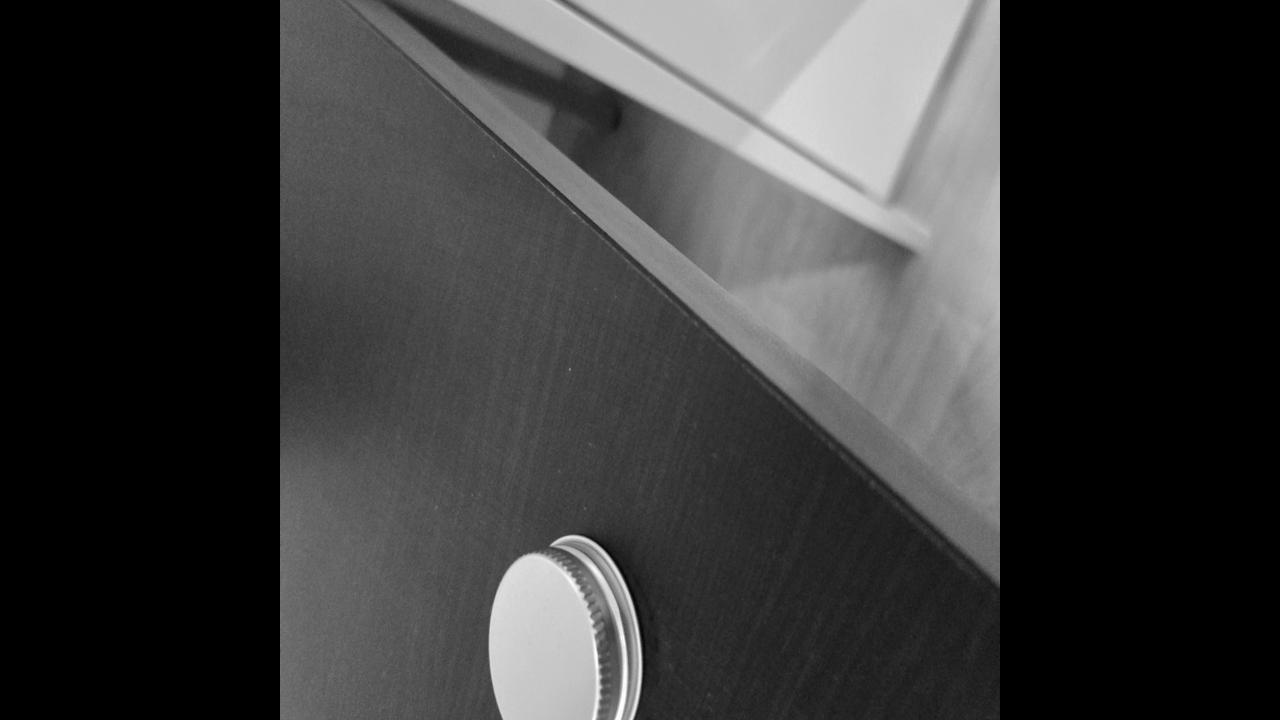bottle_cap: (480, 523, 647, 720)
